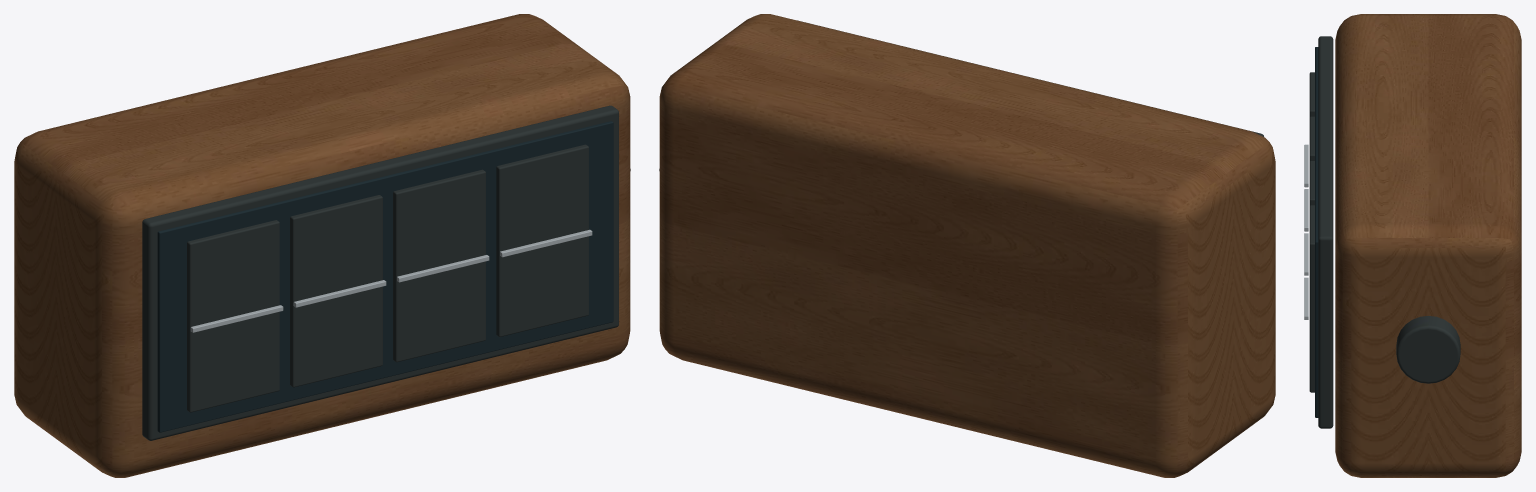
The model's file is flip-time-flip-clock.glb.
The picture shows the model from 3 angles, left to right: view 1: azimuth 30°, elevation 25°; view 2: azimuth 150°, elevation 25°; view 3: azimuth 270°, elevation 25°; orthographic projection. The views are drawn at different scales.
Parts seen in each view (by area): view 1: Walnut flip-clock housing, Inset display glass, Split-flap display tile, Split-flap display tile.002, Split-flap display tile.003, Split-flap display tile.001, Screen surround, Tile horizontal hinge.001, Tile horizontal hinge, Tile horizontal hinge.003, Tile horizontal hinge.002; view 2: Walnut flip-clock housing; view 3: Walnut flip-clock housing, Screen surround, Time setting knob, Inset display glass, Split-flap display tile.003, Split-flap display tile, Split-flap display tile.001, Split-flap display tile.002.
Part boxes in pixels (x1,y1,x2,y2): Walnut flip-clock housing: (14, 14, 630, 477); Inset display glass: (157, 121, 613, 432); Split-flap display tile: (187, 220, 279, 412); Split-flap display tile.002: (393, 169, 485, 362); Split-flap display tile.003: (496, 144, 588, 337); Split-flap display tile.001: (290, 195, 382, 387); Screen surround: (142, 105, 618, 440); Tile horizontal hinge.001: (293, 280, 386, 307); Tile horizontal hinge: (190, 305, 283, 332); Tile horizontal hinge.003: (500, 229, 592, 257); Tile horizontal hinge.002: (397, 255, 489, 282); Walnut flip-clock housing: (659, 14, 1275, 477); Walnut flip-clock housing: (1335, 14, 1521, 477); Screen surround: (1318, 36, 1333, 428); Time setting knob: (1396, 316, 1460, 383); Inset display glass: (1315, 47, 1318, 417); Split-flap display tile.003: (1309, 205, 1314, 392); Split-flap display tile: (1309, 72, 1314, 117); Split-flap display tile.001: (1309, 116, 1314, 161); Split-flap display tile.002: (1309, 161, 1314, 205).
Bounding box in the file's own units: 0.265 × 0.13 × 0.1015.
Materials: 5 (5 with a texture image).
